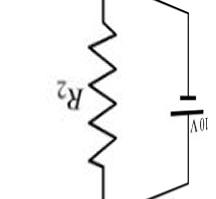Battery: (150, 75, 207, 117)
